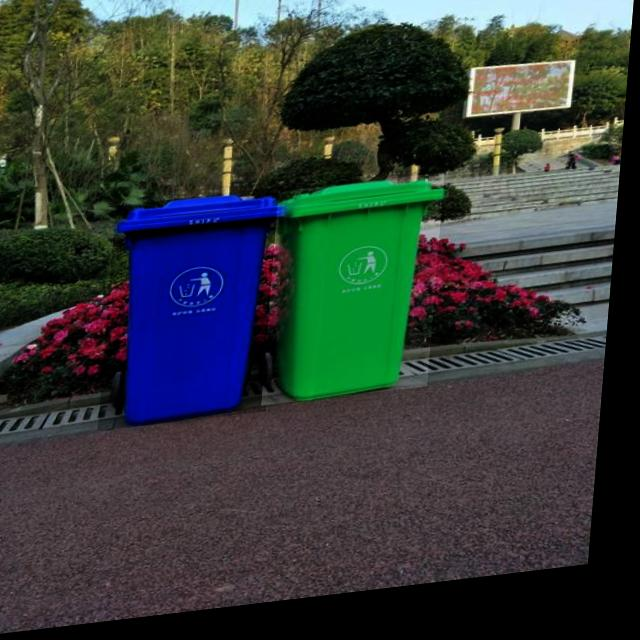garbage_bin: (105, 194, 288, 434), (269, 184, 449, 413)
